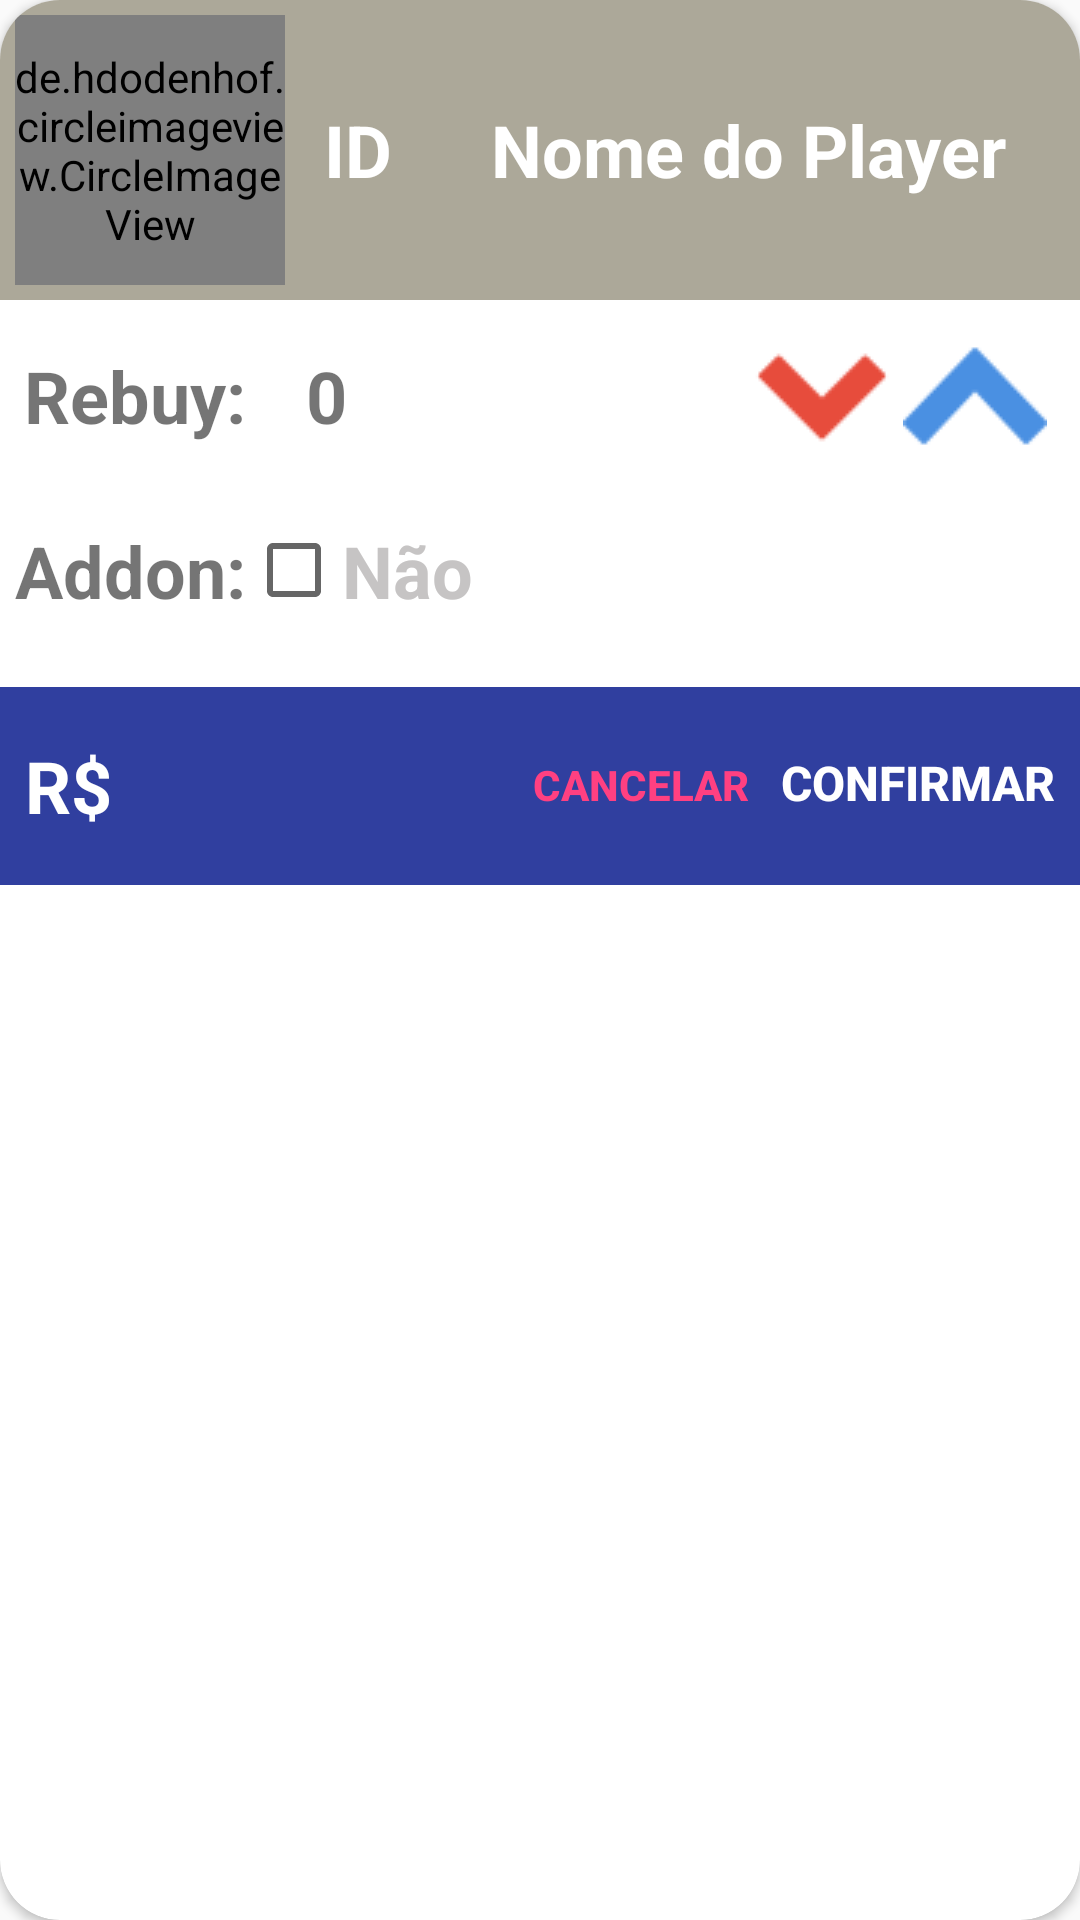

Locate icon controls on the screen. Image size 1080*1920, boxes as [x1, y1, x2, y2].
down: [758, 353, 886, 441]
